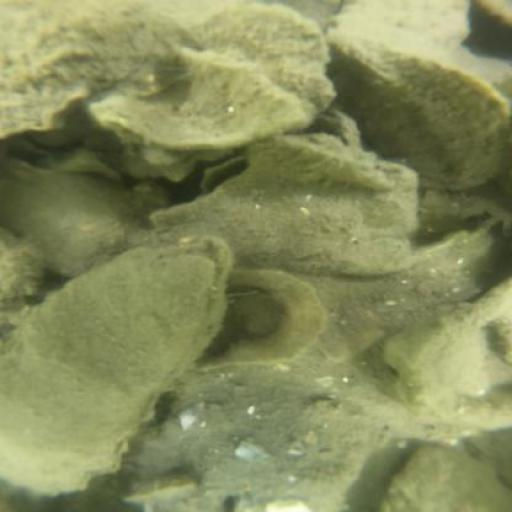Oyster-Closed: (151, 137, 434, 275), (134, 373, 388, 512), (329, 28, 512, 184), (9, 1, 187, 136), (177, 4, 337, 118), (9, 161, 134, 275), (341, 3, 475, 76), (248, 137, 395, 196), (383, 447, 512, 512), (1, 226, 43, 305)
Oyster-Open: (12, 237, 239, 497), (76, 58, 318, 169)
